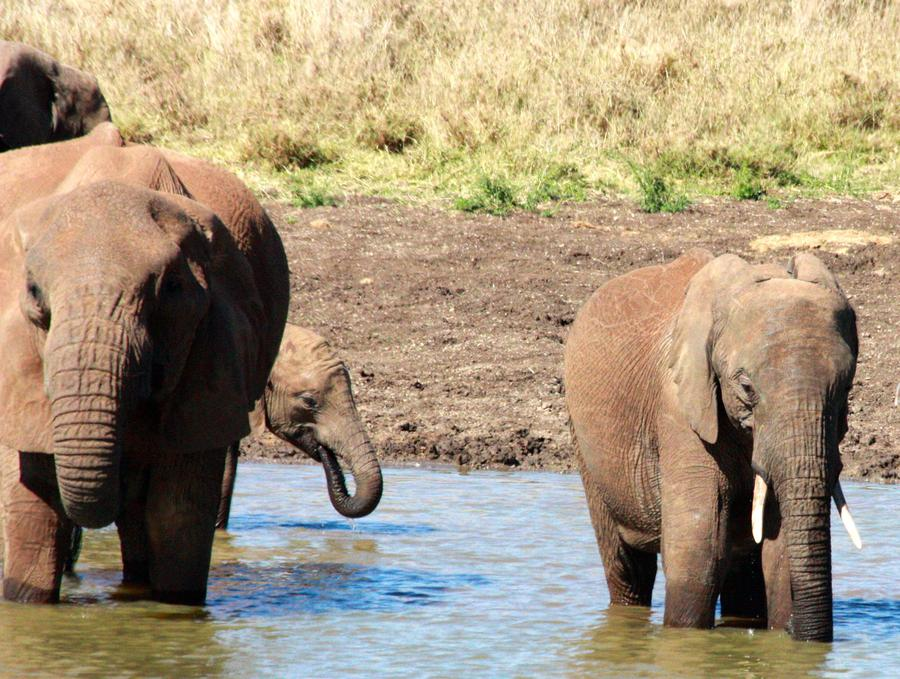elephant: (18, 187, 265, 534), (693, 261, 869, 555)
